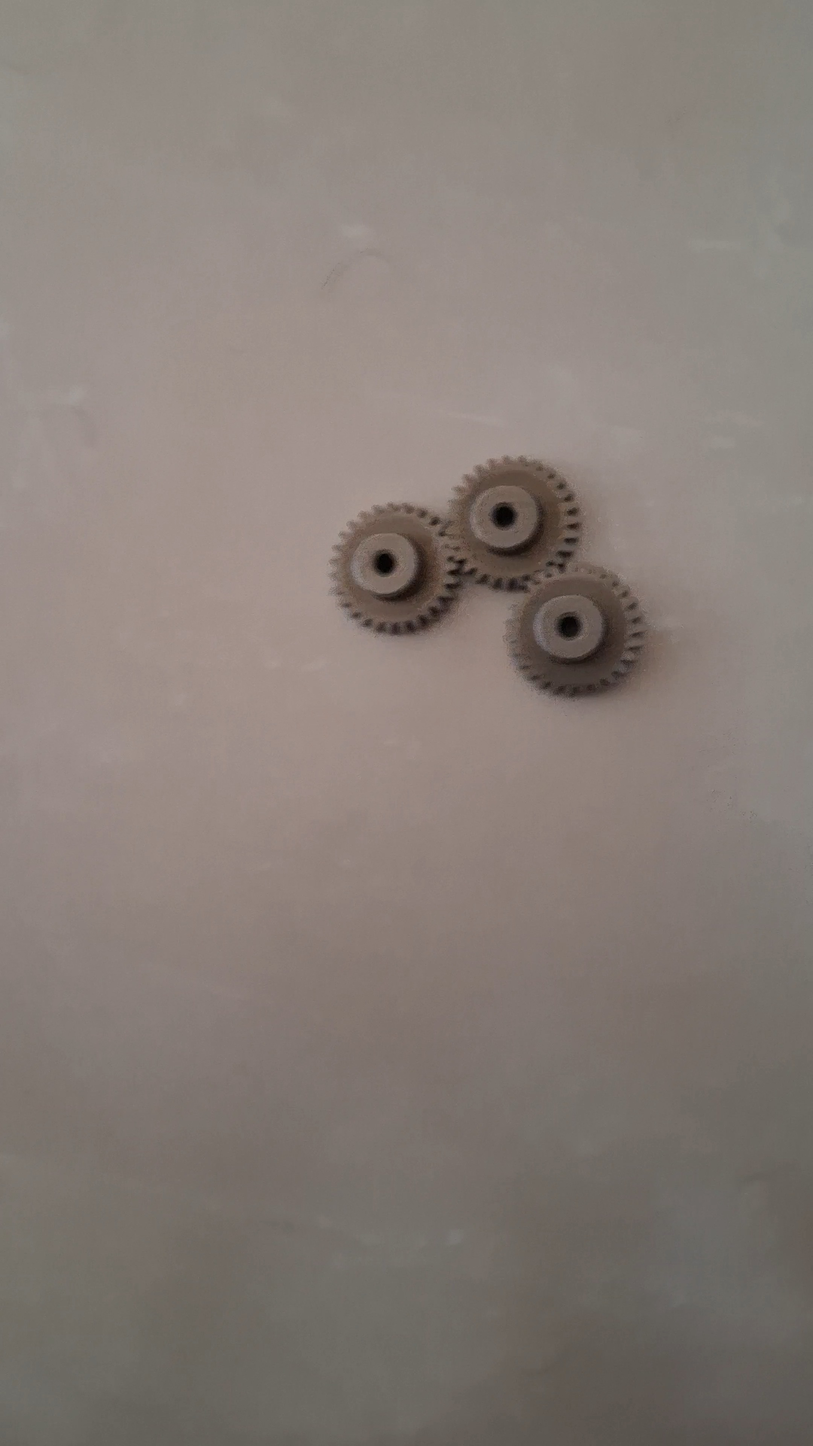spur gear: (506, 565, 644, 695), (449, 456, 580, 589), (331, 504, 460, 633)
